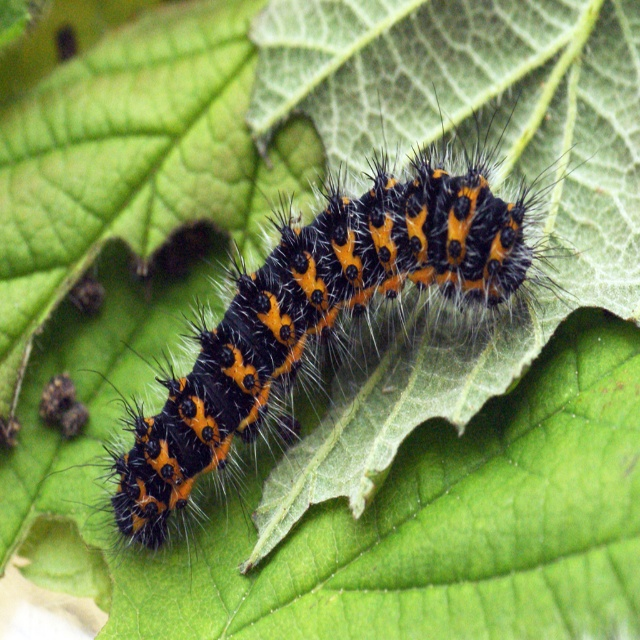Caterpillar: (38, 89, 605, 614)
